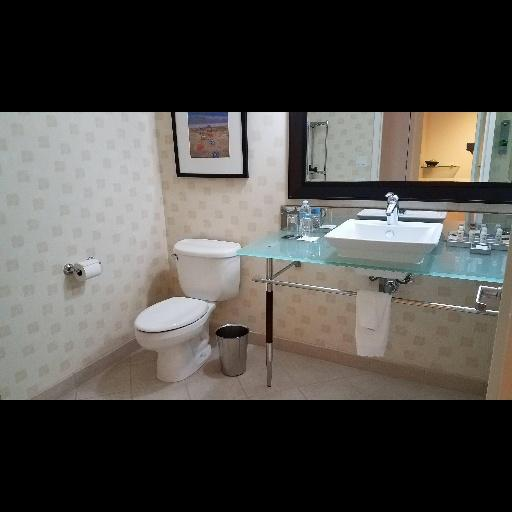clean mirror: (307, 114, 512, 182)
clean_floor: (45, 345, 485, 401)
clean_sink: (237, 195, 511, 288)
clean_toilet: (124, 236, 245, 392)
folded_towel: (351, 288, 394, 363)
